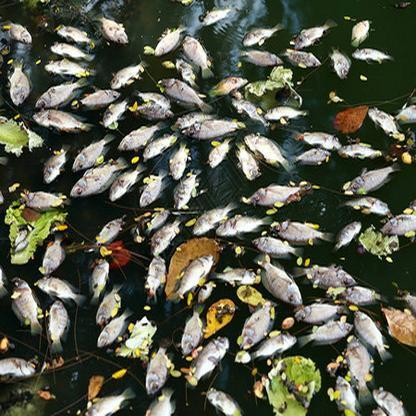deceased fish: (252, 254, 306, 306), (156, 75, 216, 113), (244, 131, 298, 172), (8, 276, 42, 339), (350, 305, 389, 359), (235, 297, 275, 348), (69, 157, 121, 196), (347, 160, 401, 195), (33, 75, 88, 109), (180, 250, 216, 299), (192, 335, 230, 380), (245, 328, 298, 360), (72, 131, 114, 171), (79, 388, 137, 416), (37, 276, 86, 308), (291, 263, 355, 287), (210, 261, 262, 290), (31, 107, 89, 132), (37, 233, 69, 278), (194, 199, 238, 231), (295, 321, 355, 344), (288, 123, 341, 149), (275, 221, 334, 244), (146, 335, 169, 393), (184, 35, 215, 78), (178, 305, 204, 355), (92, 11, 129, 45), (148, 216, 181, 254), (253, 234, 303, 259), (98, 306, 129, 346), (151, 22, 186, 57), (45, 302, 68, 354), (291, 19, 335, 46), (250, 183, 304, 205), (89, 215, 125, 248), (110, 161, 142, 198), (107, 57, 149, 85), (213, 215, 271, 235), (204, 385, 241, 416), (42, 57, 95, 78), (7, 59, 31, 105), (341, 284, 389, 307), (139, 169, 169, 205), (204, 135, 235, 169), (365, 105, 400, 135), (145, 254, 166, 304), (174, 168, 199, 209), (189, 120, 245, 138), (293, 301, 345, 320), (233, 144, 261, 179), (43, 144, 68, 183), (88, 256, 107, 307), (331, 218, 362, 249), (47, 43, 95, 62), (207, 73, 248, 95), (21, 189, 66, 209), (171, 111, 220, 129), (241, 23, 282, 44), (102, 97, 128, 128), (282, 47, 320, 67), (57, 22, 93, 43), (80, 86, 119, 105), (289, 147, 332, 164), (241, 48, 283, 65), (327, 48, 351, 77), (349, 17, 371, 48), (4, 20, 32, 44), (336, 143, 383, 157), (350, 47, 391, 62), (265, 106, 306, 120), (204, 9, 232, 25)
